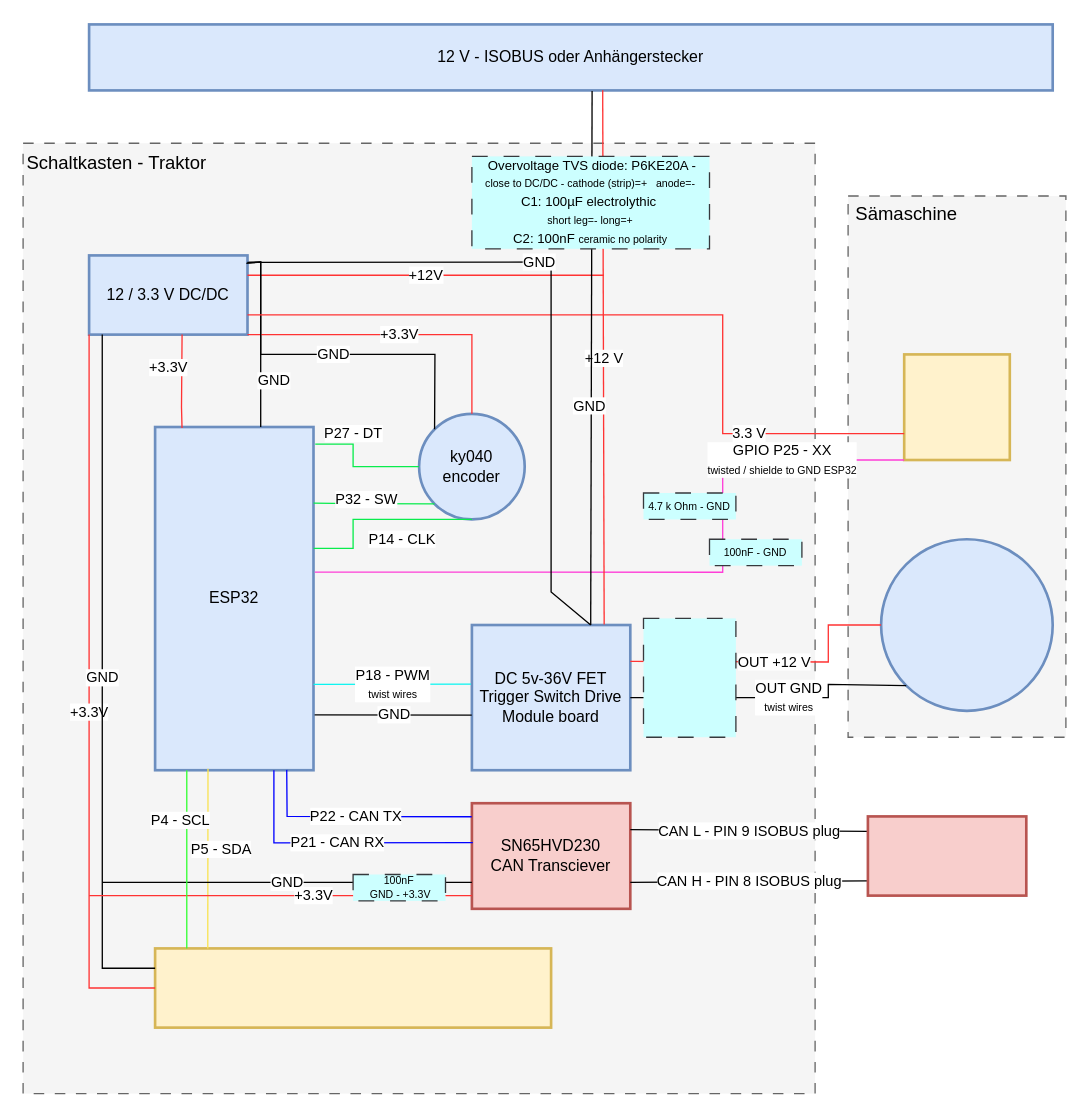
Image size: 1089x1117. Some labels were removed from this diagram. Each missing label, with the box of its shape:
20x4 I2C Display: (153, 946, 552, 1028)
CCI100: (866, 814, 1027, 896)
diode mbr2045 CT P2-OUT=+12V P1,3 OUT= GND: (642, 617, 736, 737)
Motor 12 V: (879, 537, 1053, 711)
Reed Sensor: (902, 352, 1010, 461)
